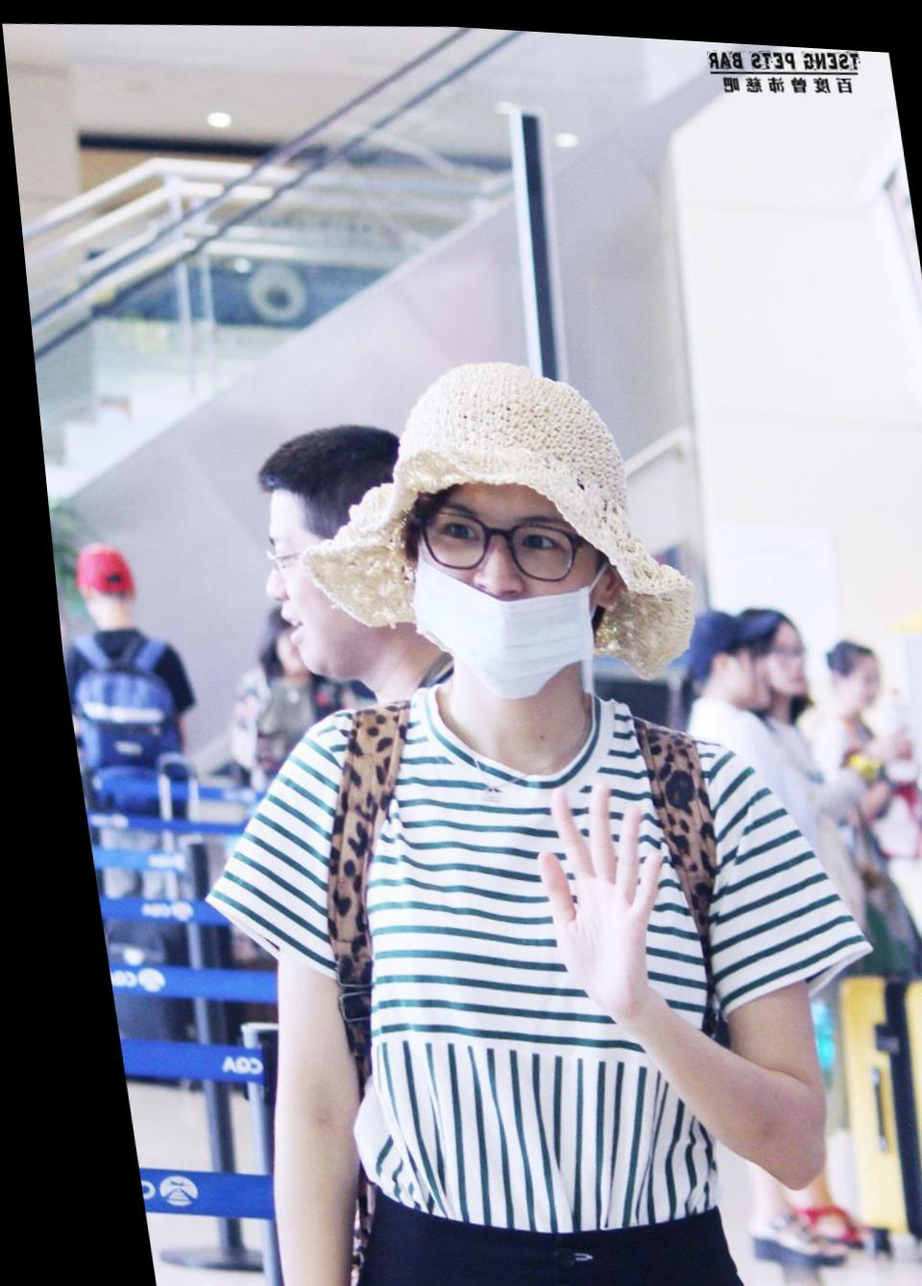NONE: (245, 522, 391, 680), (754, 631, 804, 691), (715, 641, 766, 699), (833, 656, 873, 701)
WRONG: (378, 476, 604, 695)
